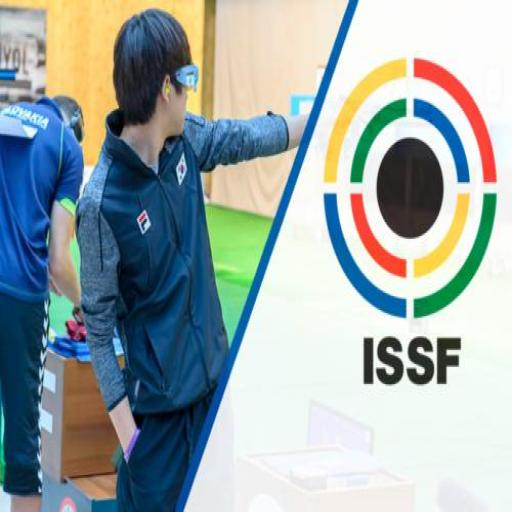shooting: (73, 6, 313, 511), (0, 90, 88, 510)
